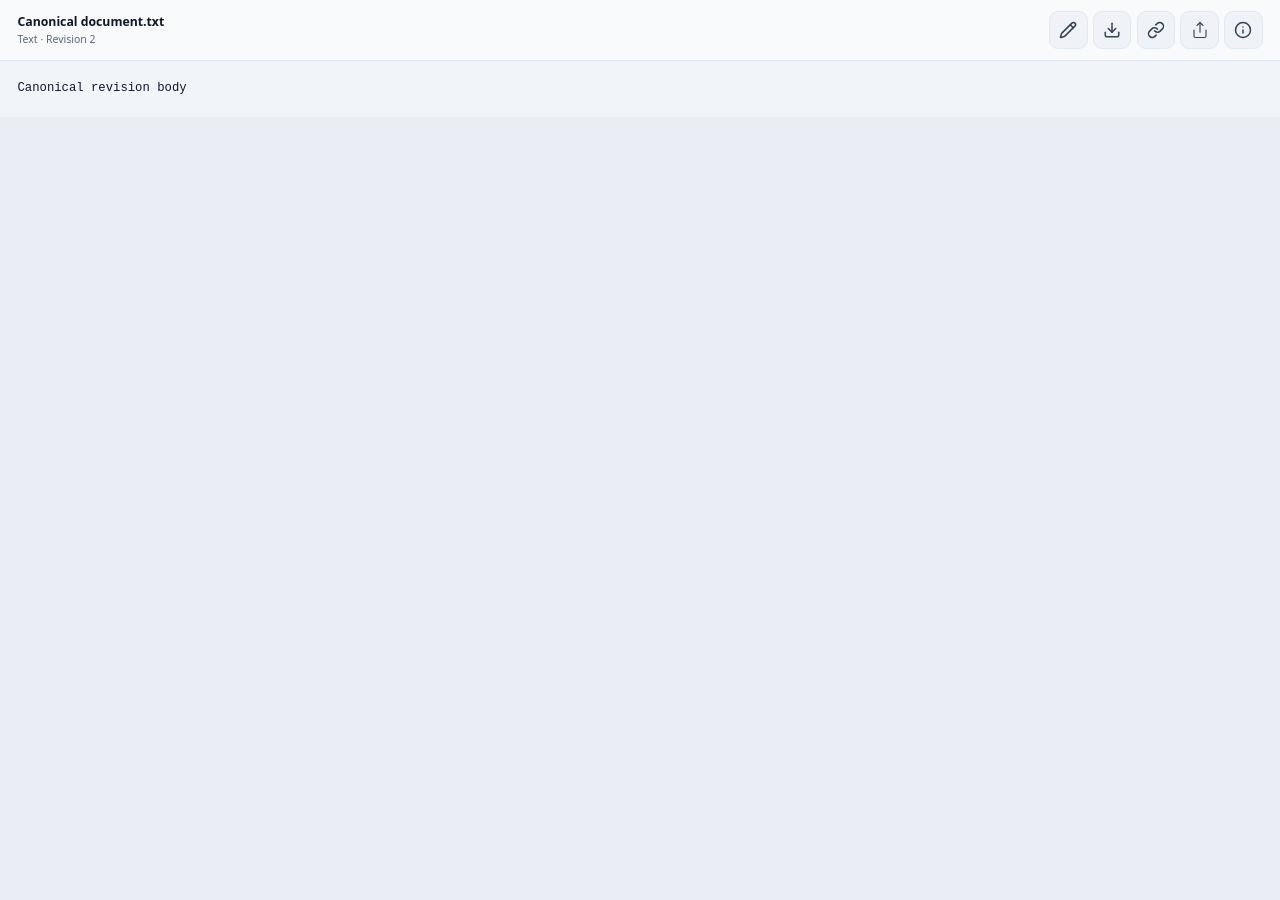
Test case: dashboard canonical document reader › blocks close while the reader is busy loading editable source
Click the button named "Edit" at (1068, 30), box [1049,10,1088,49]
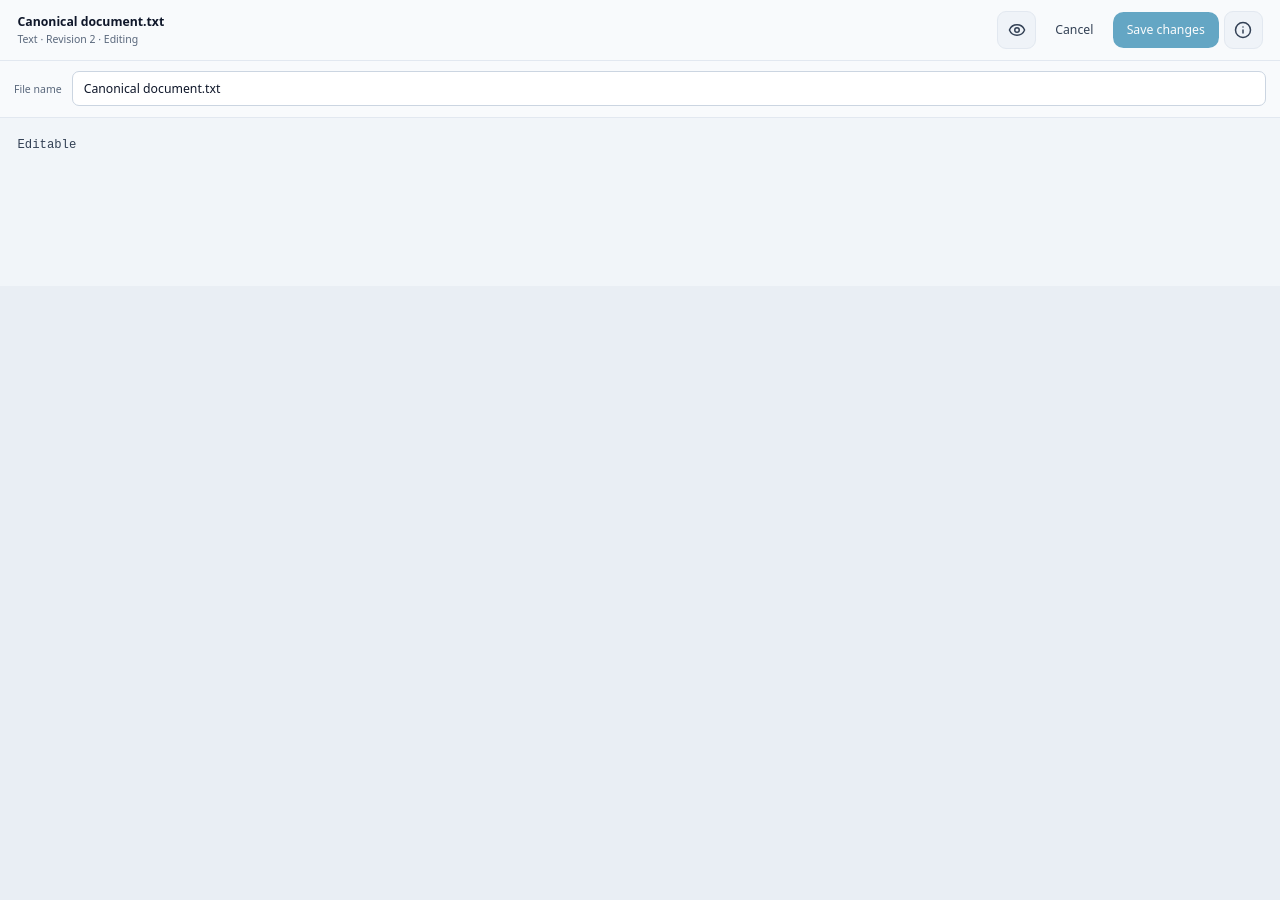
Now the field named "Artifact name" is shown, box [72,71,1266,106]
